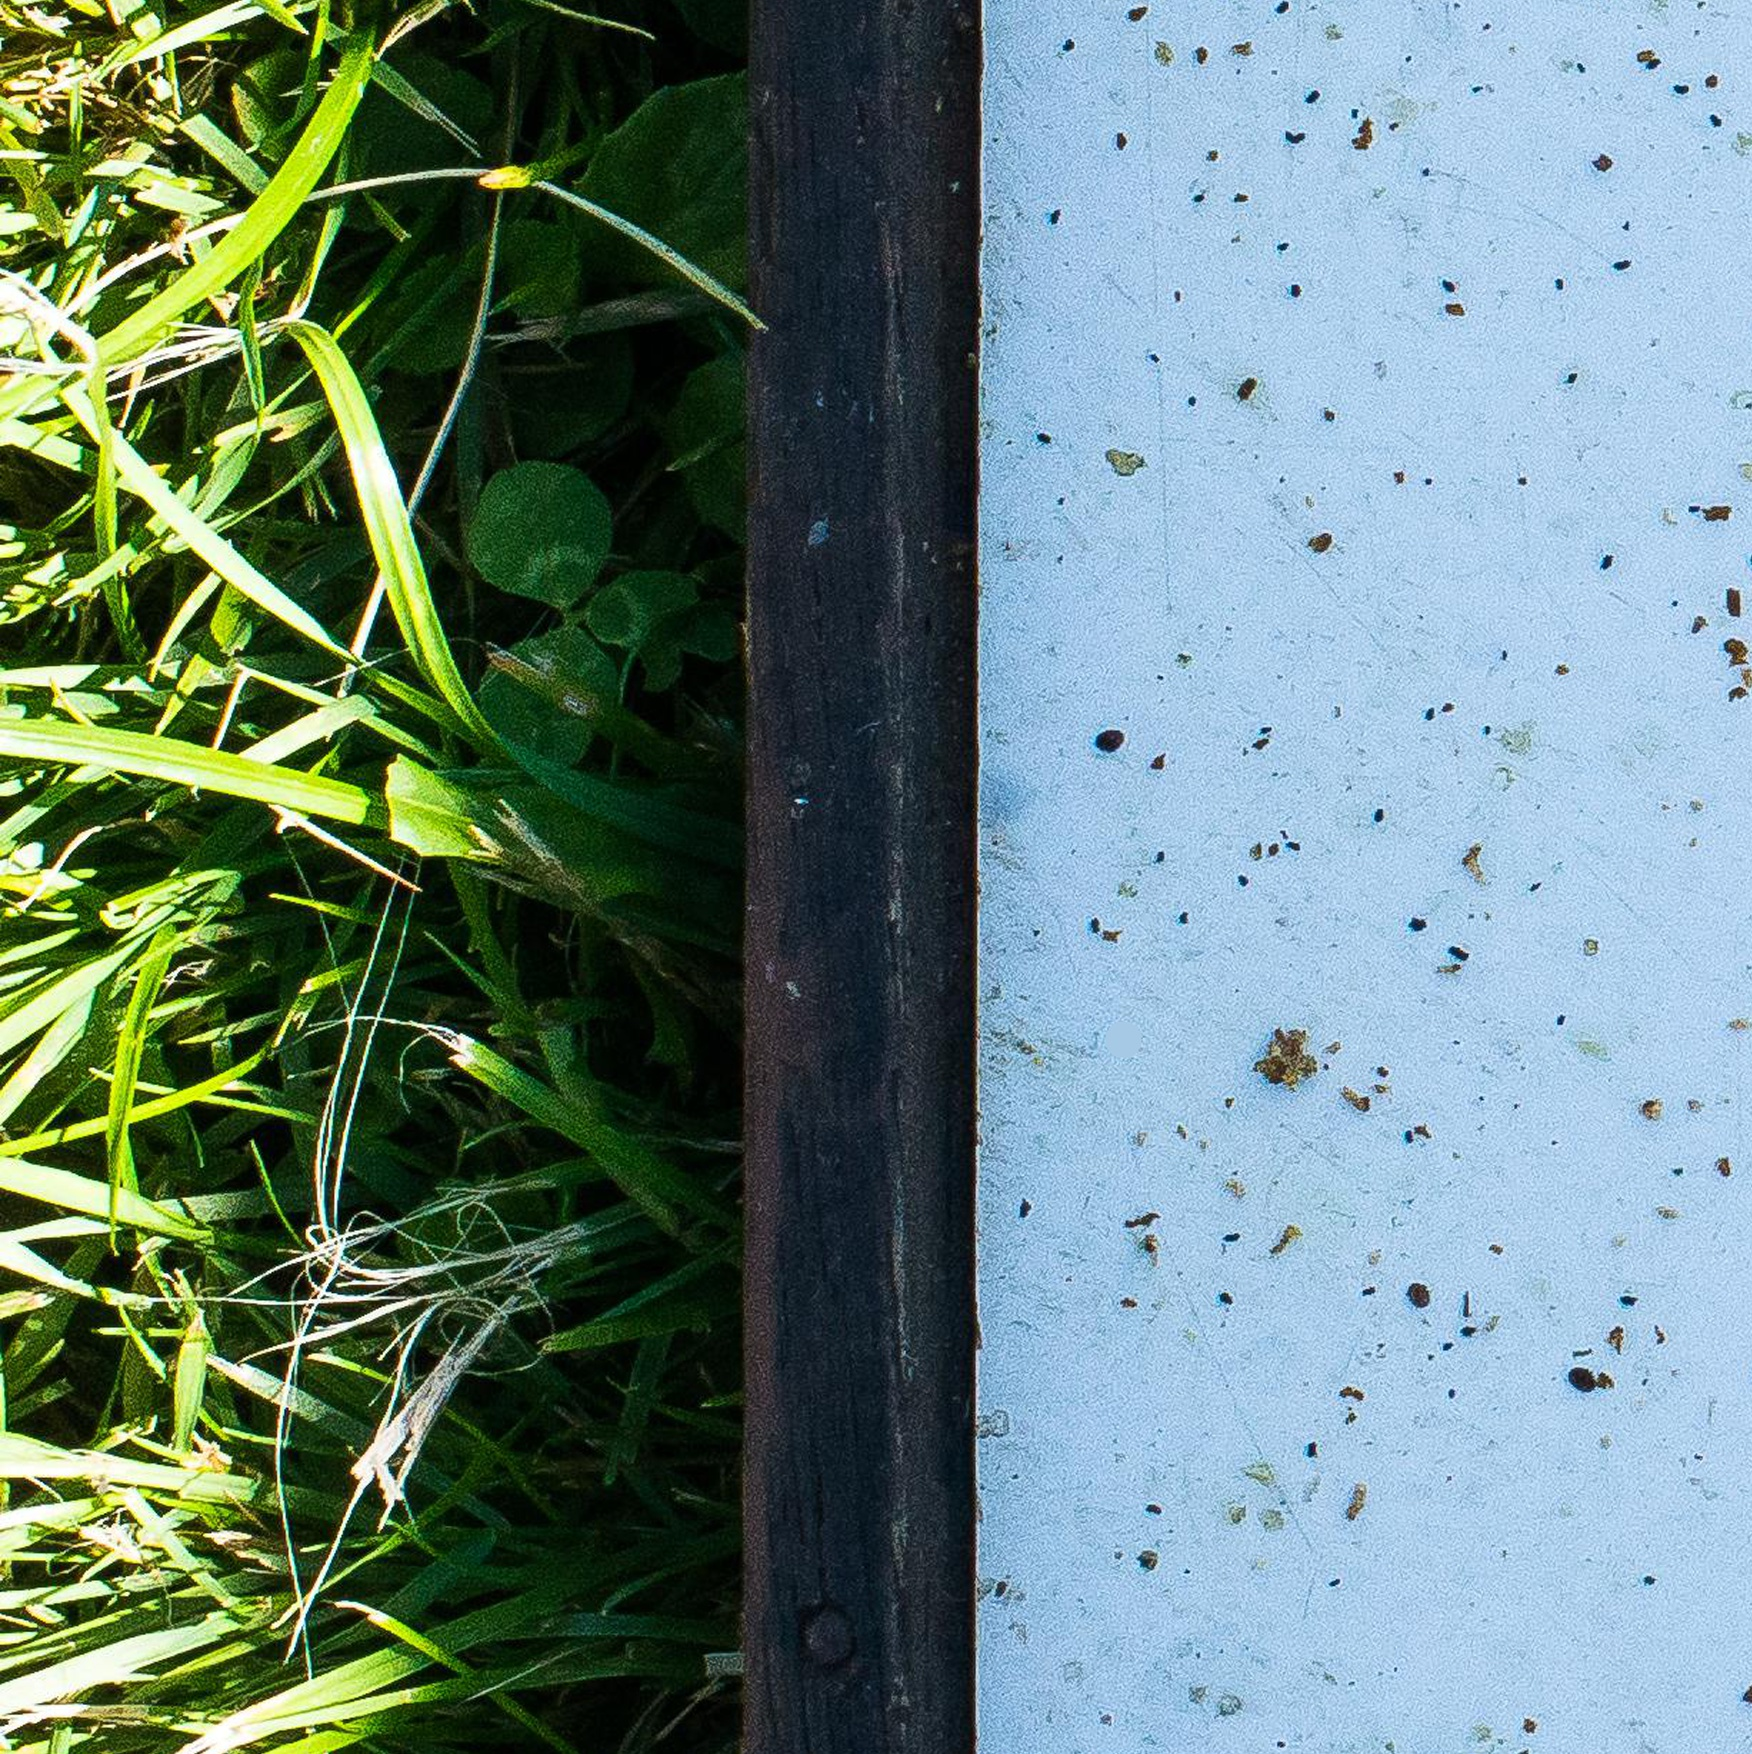Varroa: (1093, 729, 1125, 761), (1566, 1364, 1596, 1393), (1405, 1282, 1434, 1313)
